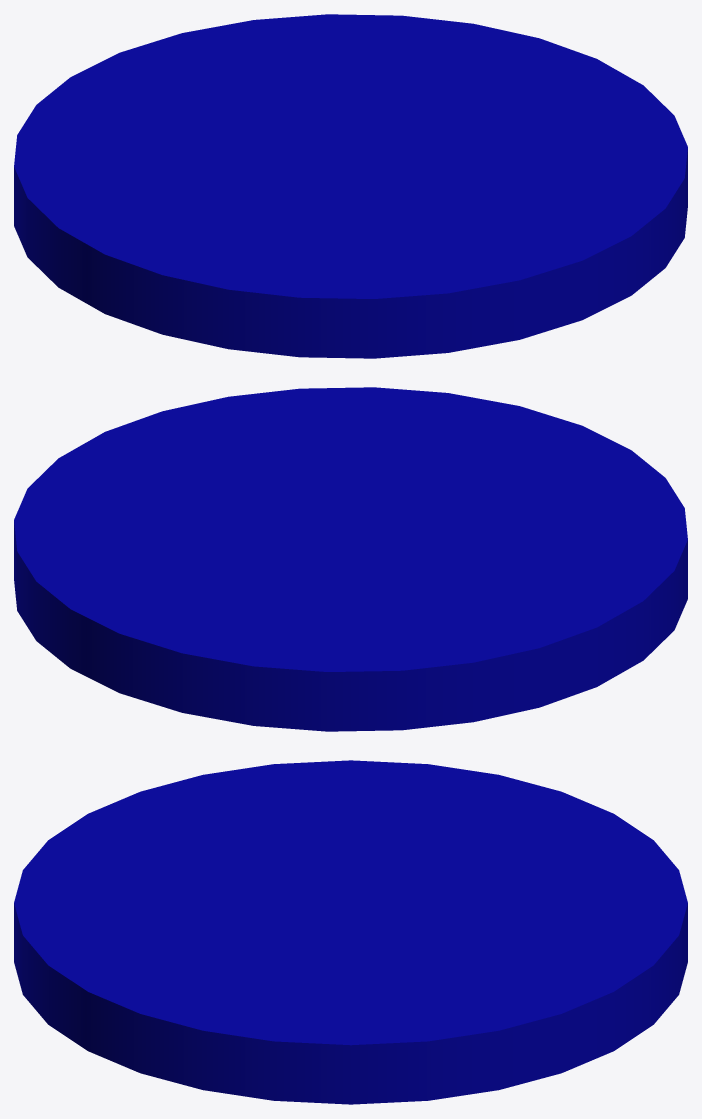
The picture shows the model from 3 angles, top to bottom: view 1: azimuth 30°, elevation 25°; view 2: azimuth 150°, elevation 25°; view 3: azimuth 270°, elevation 25°; orthographic projection.
Parts seen in each view (by area): view 1: Circle001; view 2: Circle001; view 3: Circle001.
Part boxes in pixels (x1,y1,x2,y2): Circle001: [14, 14, 687, 358]; Circle001: [14, 387, 687, 731]; Circle001: [14, 760, 687, 1104].
Size of the model in its own units: 61.71 by 6 by 61.71.
